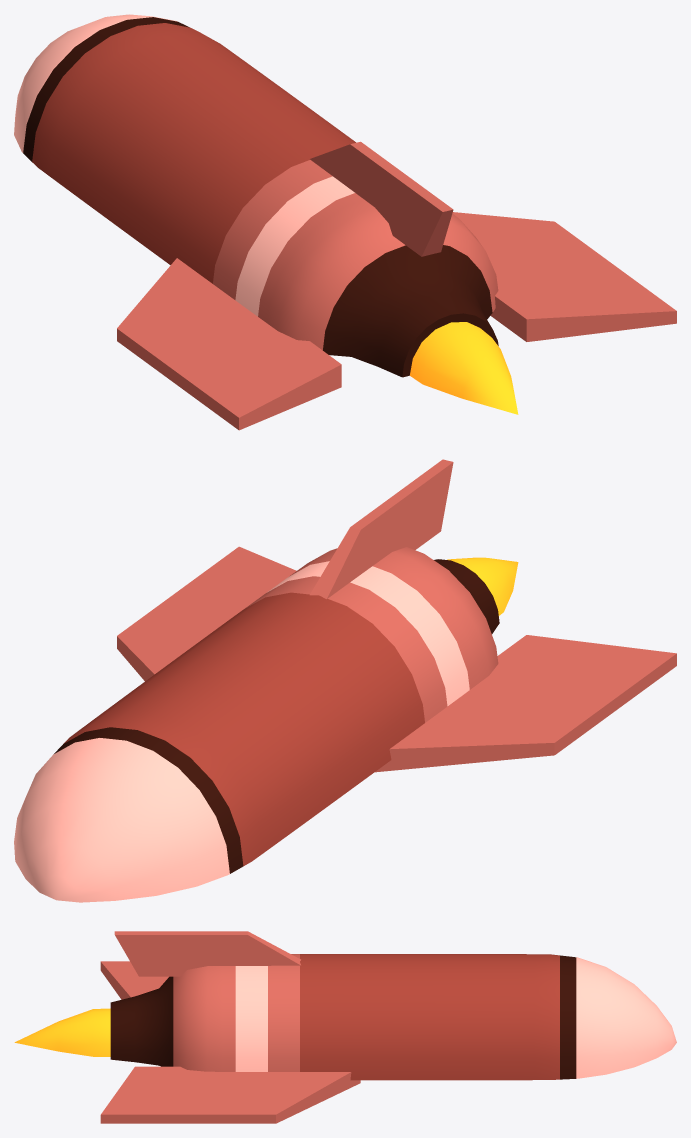
The model's file is shot_megamissile.glb.
The picture shows the model from 3 angles, top to bottom: view 1: azimuth 30°, elevation 25°; view 2: azimuth 150°, elevation 25°; view 3: azimuth 270°, elevation 25°; orthographic projection. The views are drawn at different scales.
Visible parts, largest first — view 1: mm_body, mm_fin.001, mm_fin, mm_fin_top, mm_flame; view 2: mm_body, mm_fin.001, mm_fin, mm_fin_top, mm_flame; view 3: mm_body, mm_fin, mm_fin_top, mm_flame, mm_fin.001.
Boxes of the visible parts, x1,y1,x2,y2 form: mm_body: (14,14,498,377); mm_fin.001: (117,258,341,430); mm_fin: (452,212,676,341); mm_fin_top: (310,141,453,256); mm_flame: (410,322,518,414); mm_body: (14,547,499,902); mm_fin.001: (375,635,676,772); mm_fin: (117,546,296,681); mm_fin_top: (310,459,453,599); mm_flame: (447,557,518,615); mm_body: (110,954,676,1080); mm_fin: (100,1066,360,1123); mm_fin_top: (114,931,300,976); mm_flame: (14,1008,110,1056); mm_fin.001: (100,961,168,999).
Bounding box in the file's own units: 9 × 3.23 × 16.45.
